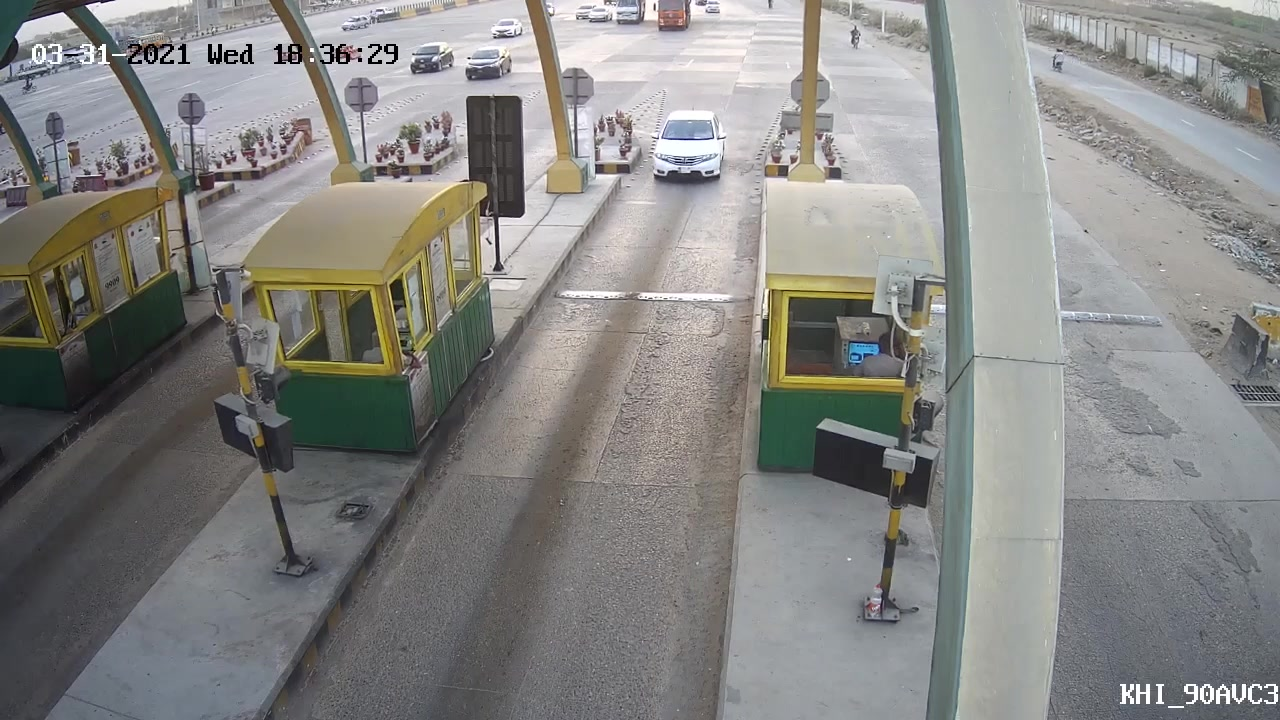F1: (648, 101, 731, 184)
